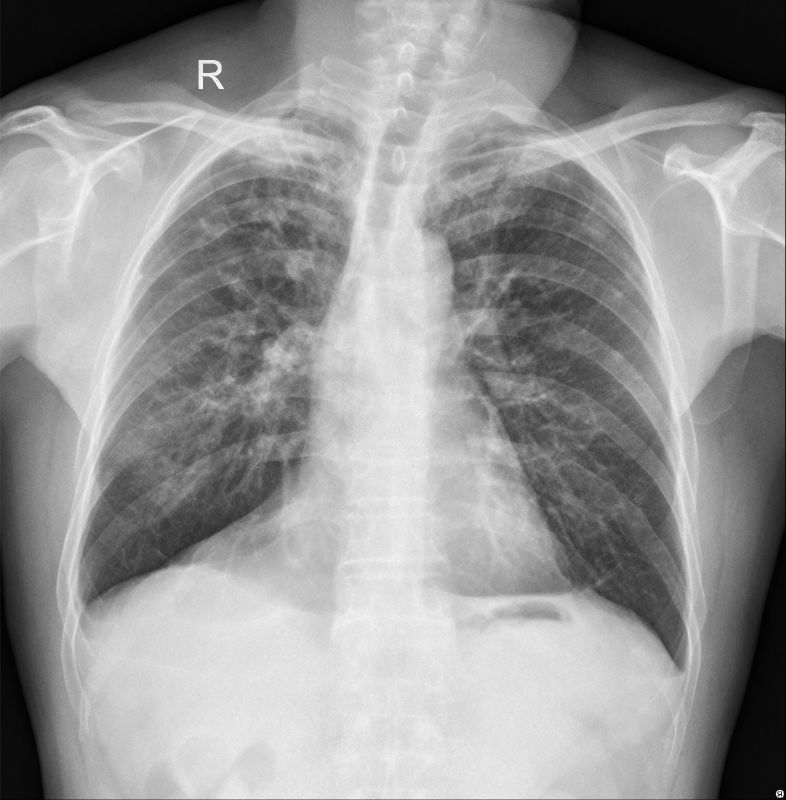Tuberculosis: (187, 237, 308, 420), (236, 117, 340, 197)
